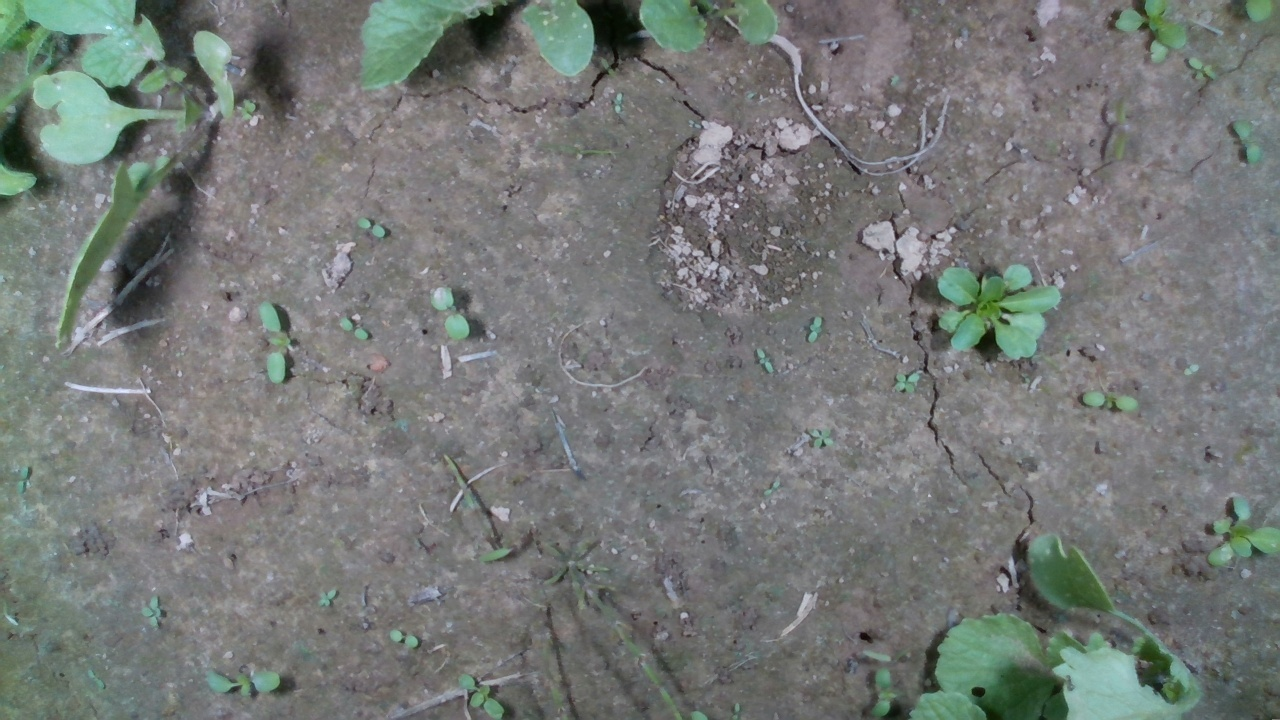weed: (203, 665, 283, 697), (426, 283, 470, 341), (258, 301, 288, 386), (1230, 117, 1263, 165), (1079, 388, 1141, 413), (336, 314, 370, 341), (137, 593, 162, 629), (1187, 54, 1219, 82), (806, 425, 835, 452), (892, 370, 921, 394), (355, 217, 386, 239), (388, 627, 419, 649), (753, 346, 775, 375), (761, 474, 784, 497), (805, 313, 822, 342), (316, 588, 338, 609), (1182, 362, 1201, 377)
